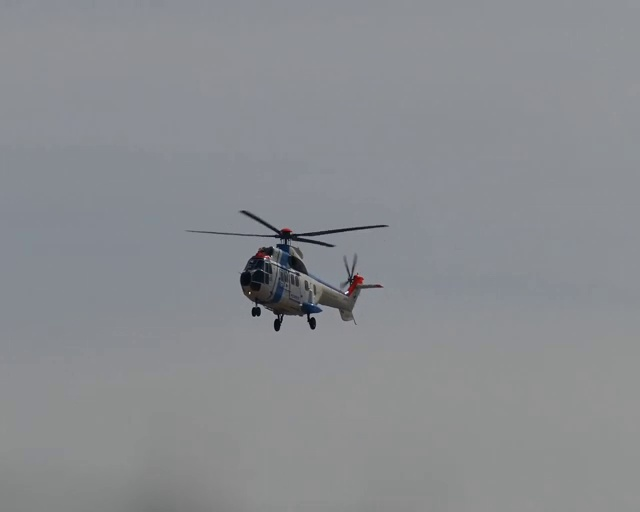HELICOPTER: (186, 209, 390, 331)
